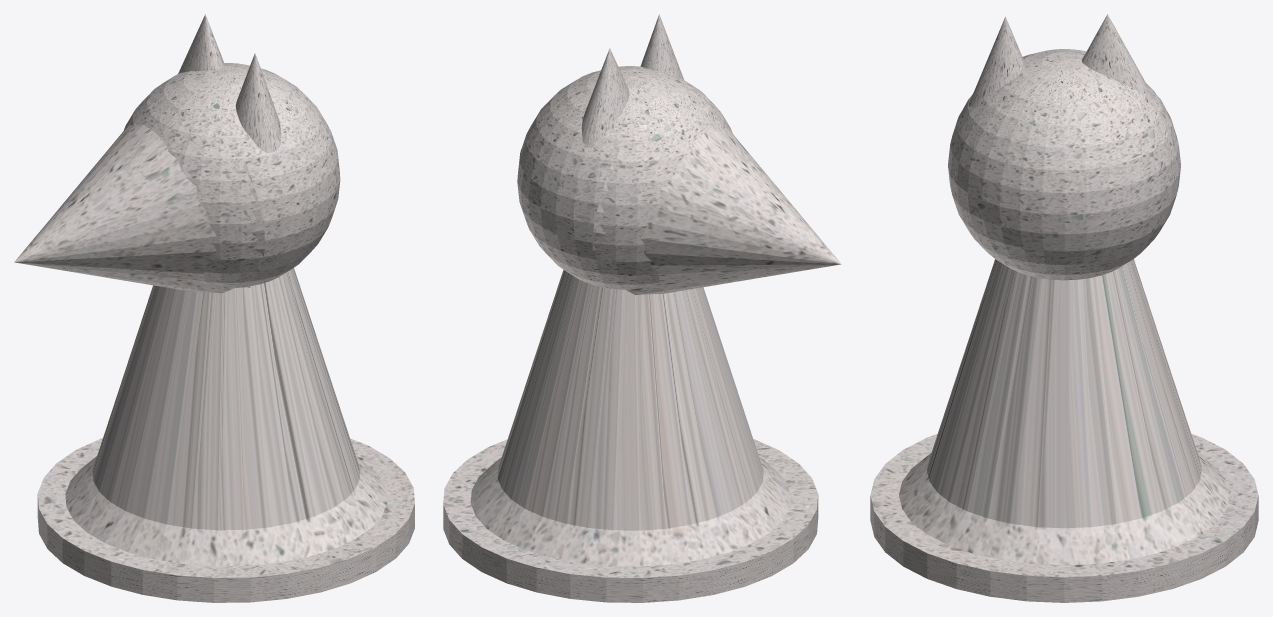
File: WhiteKnight.fbx
3 views of the same model, side by side, from view 1: azimuth 30°, elevation 25°; view 2: azimuth 150°, elevation 25°; view 3: azimuth 270°, elevation 25° (orthographic). The views are drawn at different scales.
Parts seen in each view (by area): view 1: Cylinder; view 2: Cylinder; view 3: Cylinder.
Boxes of the visible parts, box(x1,y1,x2,y2) form: Cylinder: box(14, 14, 414, 602); Cylinder: box(443, 14, 841, 602); Cylinder: box(870, 14, 1258, 602).
Size of the model in its own units: 230 by 288 by 200.
